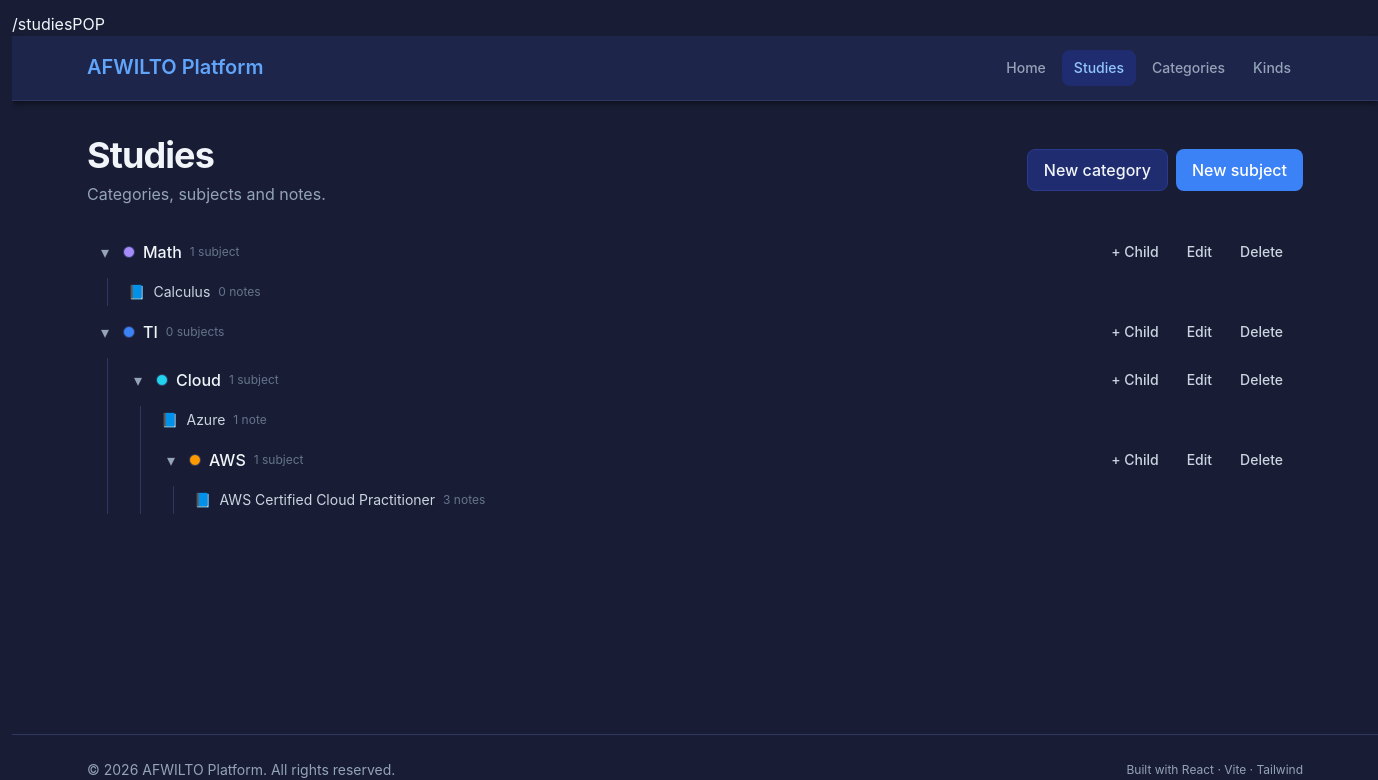
Test: LibraryPage (AC-F3) › starts expanded; collapsing TI hides its subtree and expanding shows it again (S07-4, D-3)
The width and height of the screenshot is (1378, 780).
Expected: the link "AWS" is shown, [209,448,246,472]
Click the button named "Collapse TI": (105, 332) [95,322,115,342]
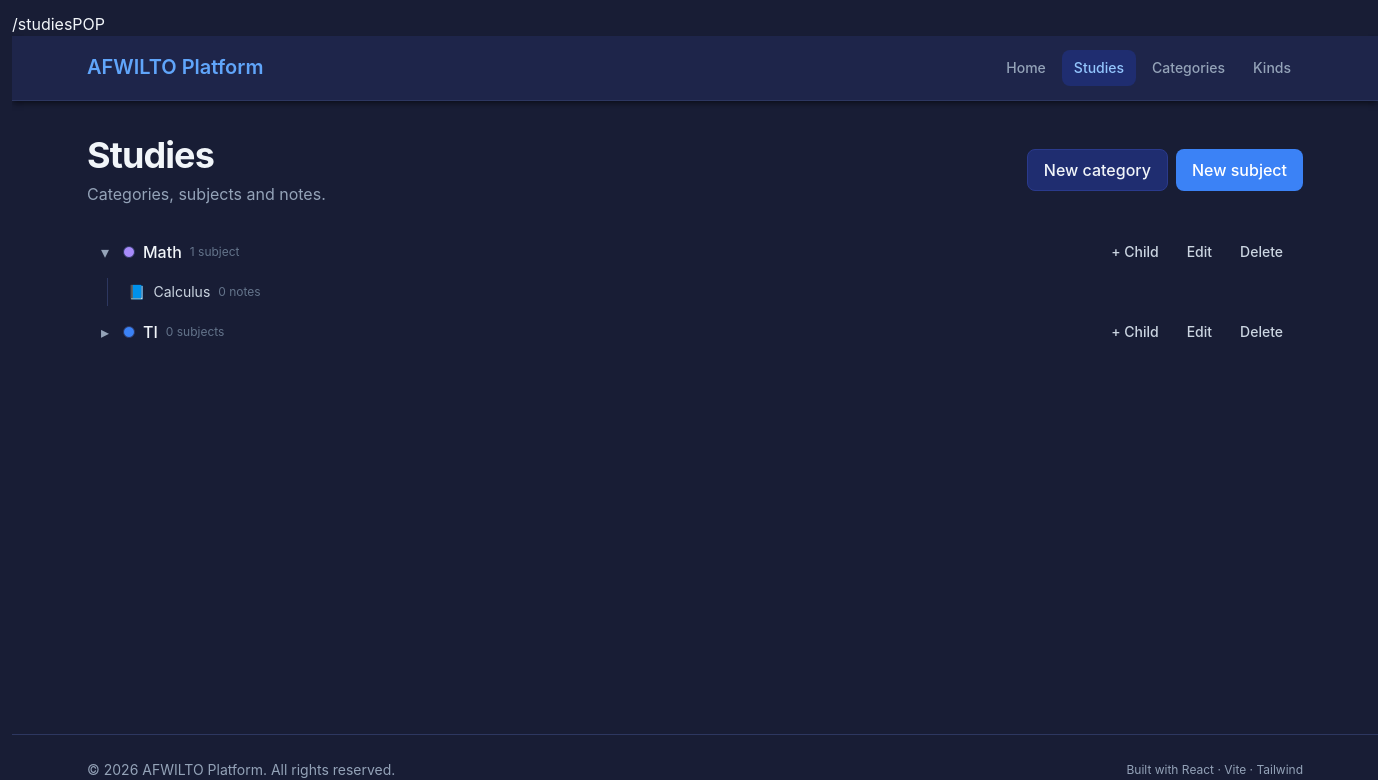
Result: the button named "Expand TI" is collapsed
Result: the link "Cloud" is gone
Result: the link "AWS" is gone
Click the button named "Expand TI": (105, 332) [95,322,115,342]
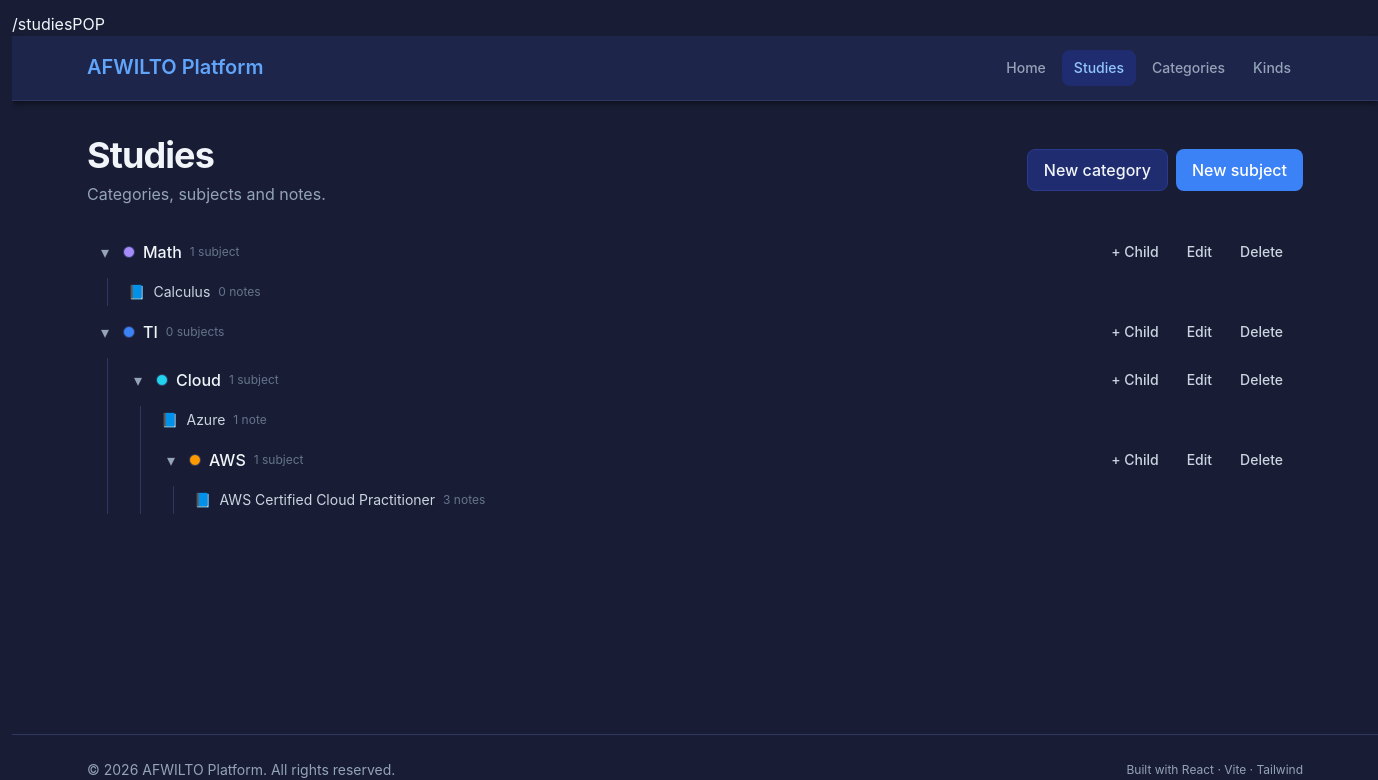
Result: the link "Cloud" is shown at [176,368,221,392]
Result: the link "AWS" is shown at [209,448,246,472]
Result: the link "📘 AWS Certified Cloud Practitioner 3 notes" is shown at [194,491,485,508]
